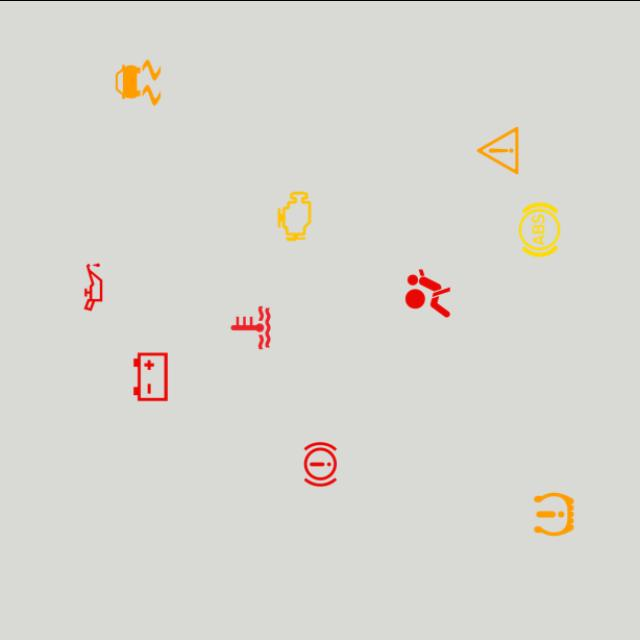Anti Lock Braking System: (510, 199, 570, 259)
Braking System Issue: (290, 434, 350, 494)
Charging System Issue: (120, 346, 180, 406)
Check Engine: (264, 185, 324, 245)
Electronic Stability Problem -ESP-: (108, 52, 168, 112)
Engine Overheating Warning Light: (220, 297, 280, 357)
Low Engine Oil Warning Light: (64, 256, 124, 316)
Low Tire Pressure Warning Light: (524, 484, 584, 544)
Master warning light: (468, 120, 528, 180)
SRS-Airbag: (398, 262, 458, 322)
